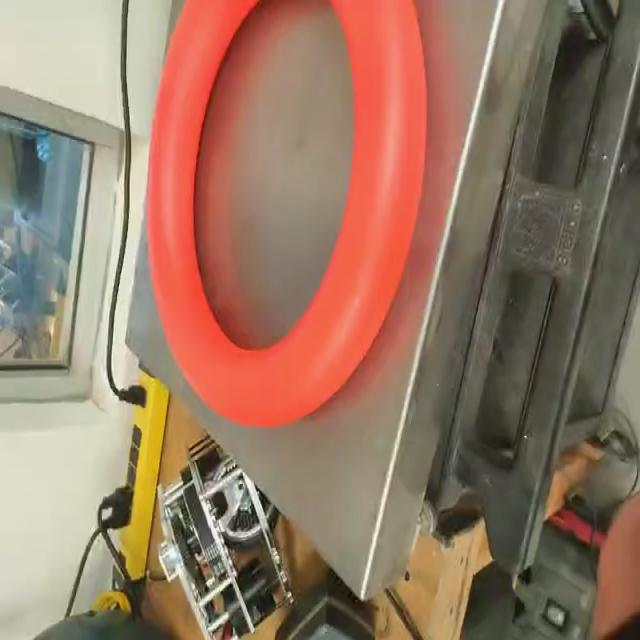note: (140, 0, 430, 430)
